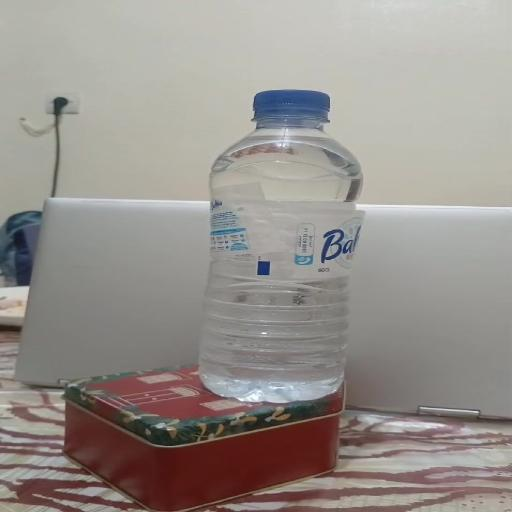bouteille conformite: (170, 82, 412, 406)
